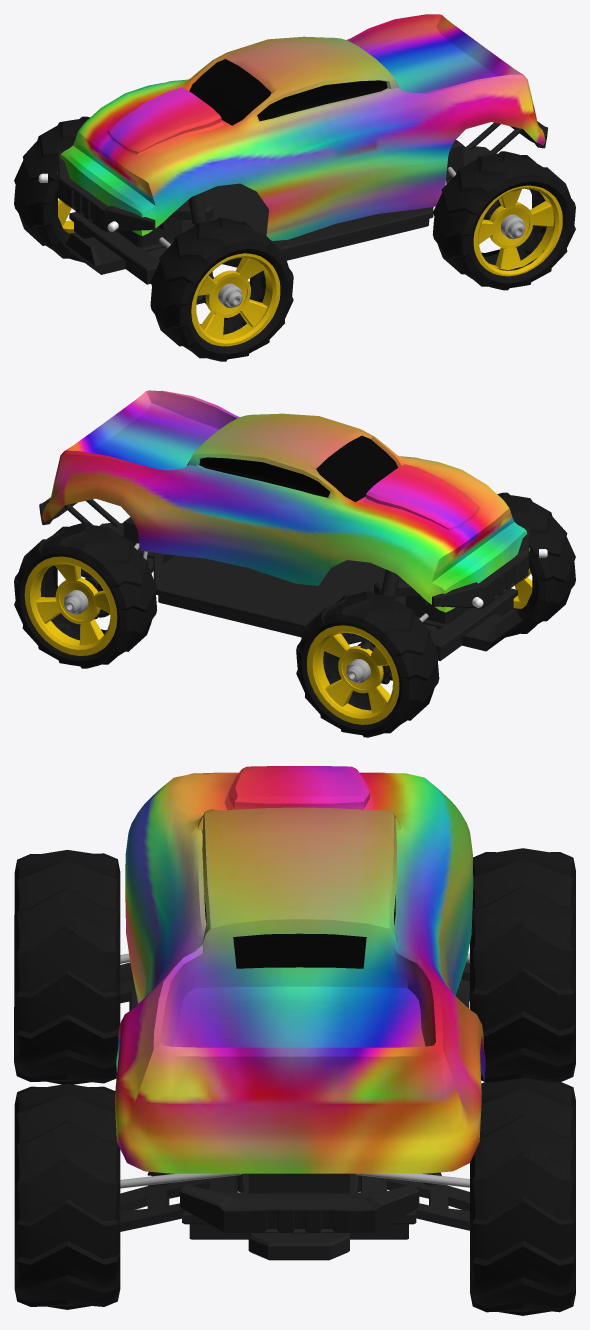
File: RC Car.fbx
The picture shows the model from 3 angles, top to bottom: view 1: azimuth 30°, elevation 25°; view 2: azimuth 150°, elevation 25°; view 3: azimuth 270°, elevation 25°; orthographic projection. The views are drawn at different scales.
Visible parts, largest first — view 1: RC Car; view 2: RC Car; view 3: RC Car.
Part boxes in pixels (x1,y1,x2,y2): RC Car: (14,14,575,361); RC Car: (14,390,575,737); RC Car: (14,766,575,1315).
Bounding box in the file's own units: 709 × 321 × 456.
Materials: 1 (1 with a texture image).
